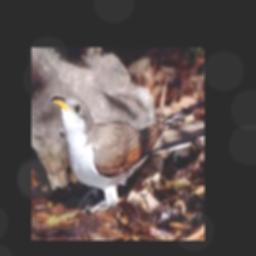Cuckoo: (50, 95, 204, 208)
